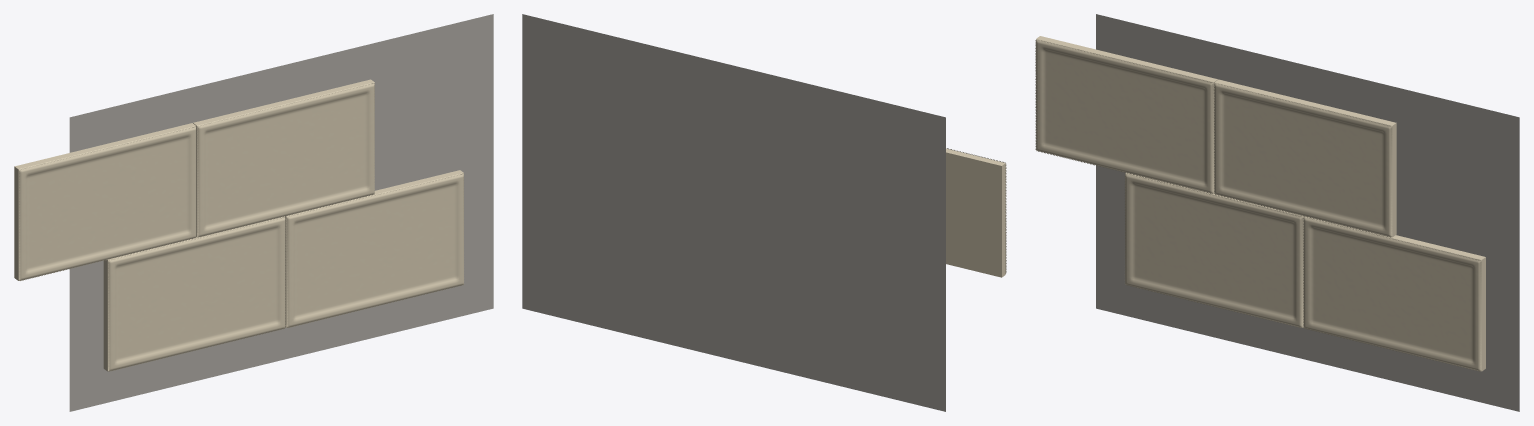
Rendered from terilgan.glb.
3 views of the same model, side by side, from view 1: azimuth 30°, elevation 25°; view 2: azimuth 150°, elevation 25°; view 3: azimuth 330°, elevation 25° (orthographic).
Visible parts, largest first — view 1: Plane, t1_0, t1_1, t0_0, t0_1; view 2: Plane, t1_0; view 3: Plane, t1_1, t0_1, t1_0, t0_0.
Boxes of the visible parts, x1=… form: Plane: x1=69, y1=14, x2=493, y2=411; t1_0: x1=14, y1=123, x2=196, y2=280; t1_1: x1=193, y1=79, x2=374, y2=237; t0_0: x1=103, y1=216, x2=285, y2=371; t0_1: x1=285, y1=170, x2=463, y2=328; Plane: x1=522, y1=14, x2=945, y2=411; t1_0: x1=946, y1=148, x2=1006, y2=277; Plane: x1=1096, y1=14, x2=1519, y2=411; t1_1: x1=1214, y1=79, x2=1396, y2=237; t0_1: x1=1303, y1=216, x2=1485, y2=371; t1_0: x1=1035, y1=36, x2=1217, y2=193; t0_0: x1=1124, y1=172, x2=1303, y2=328.
Size of the model in its own units: 2.16 by 1.27 by 0.0419.
